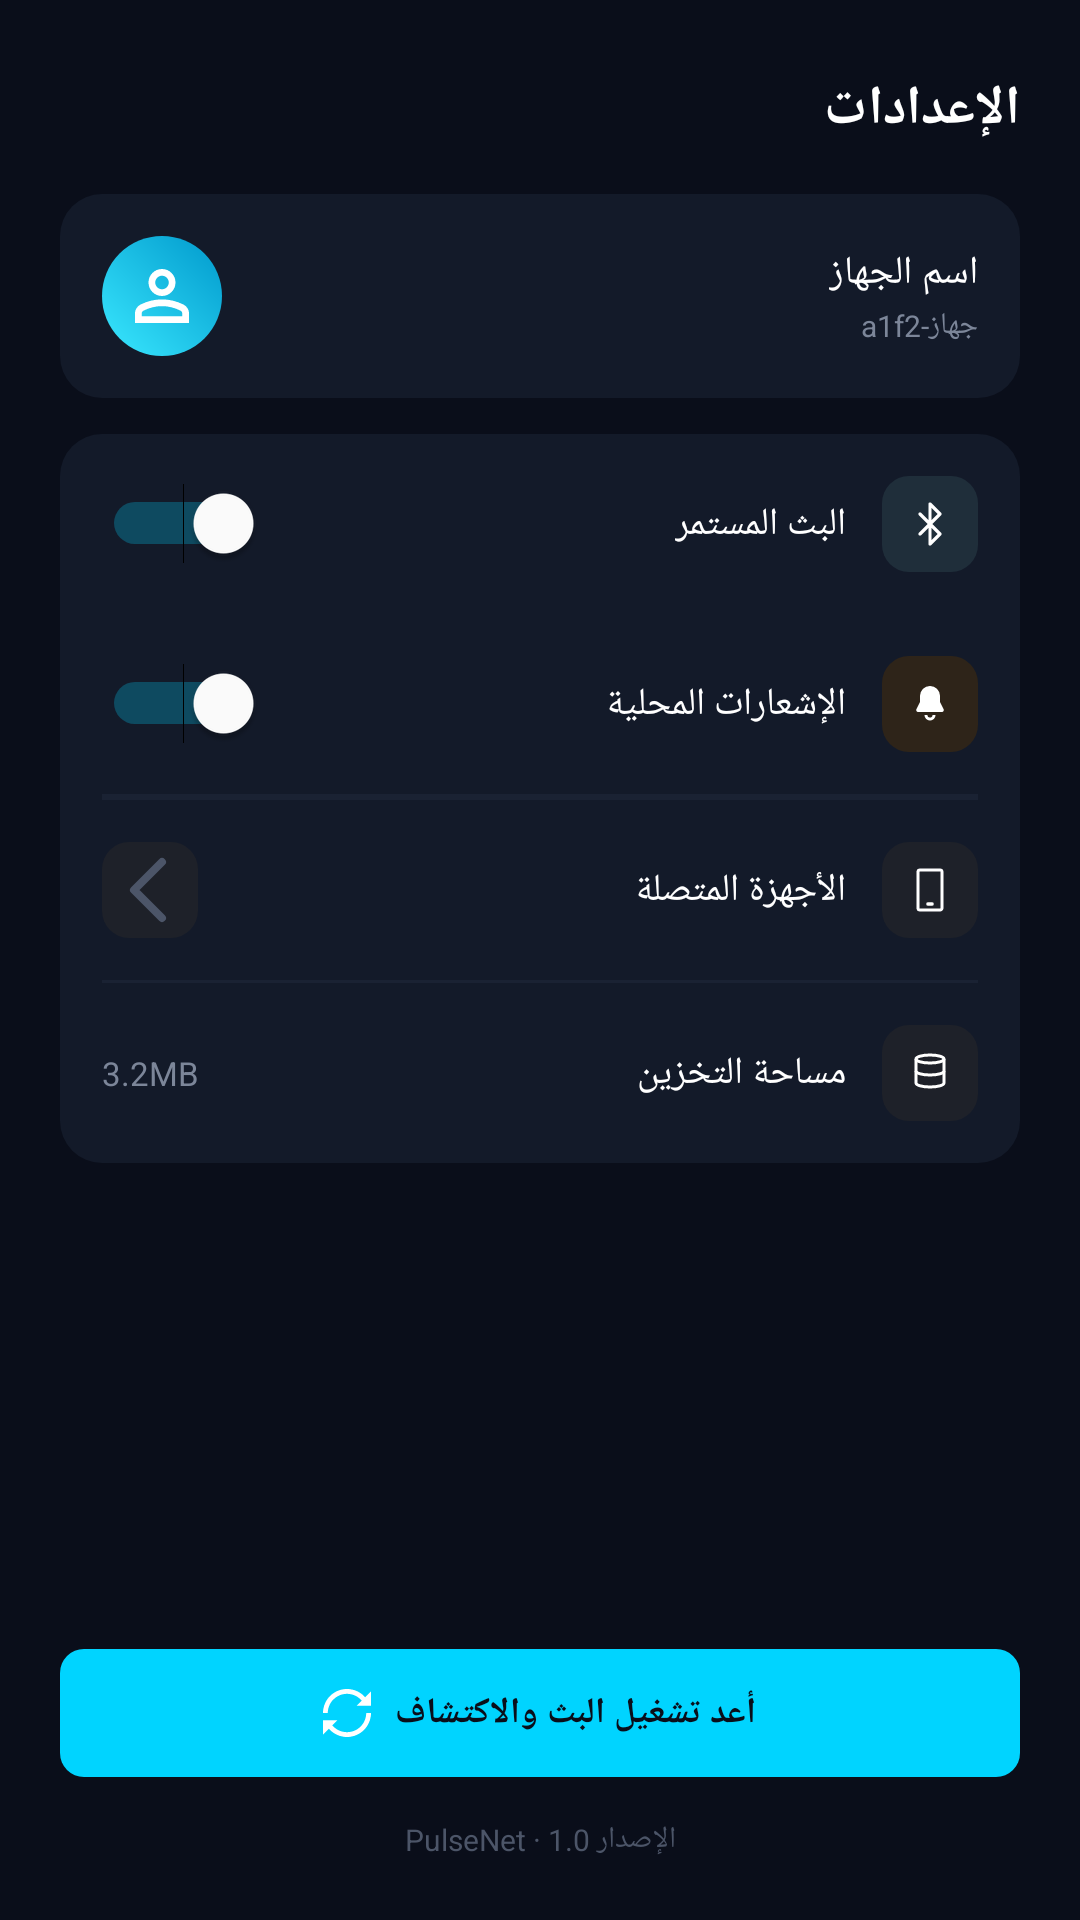

Icon bounding boxes for this 1080px x 1920px phone screenshot, format {"left": x1, "top": y1, "right": x2, "bottom": y2}:
arrow left: {"left": 102, "top": 842, "right": 198, "bottom": 938}
bell: {"left": 916, "top": 686, "right": 944, "bottom": 721}
database: {"left": 914, "top": 1053, "right": 946, "bottom": 1089}
devices: {"left": 916, "top": 868, "right": 944, "bottom": 912}
person: {"left": 135, "top": 269, "right": 189, "bottom": 323}
refresh: {"left": 323, "top": 1689, "right": 371, "bottom": 1737}
